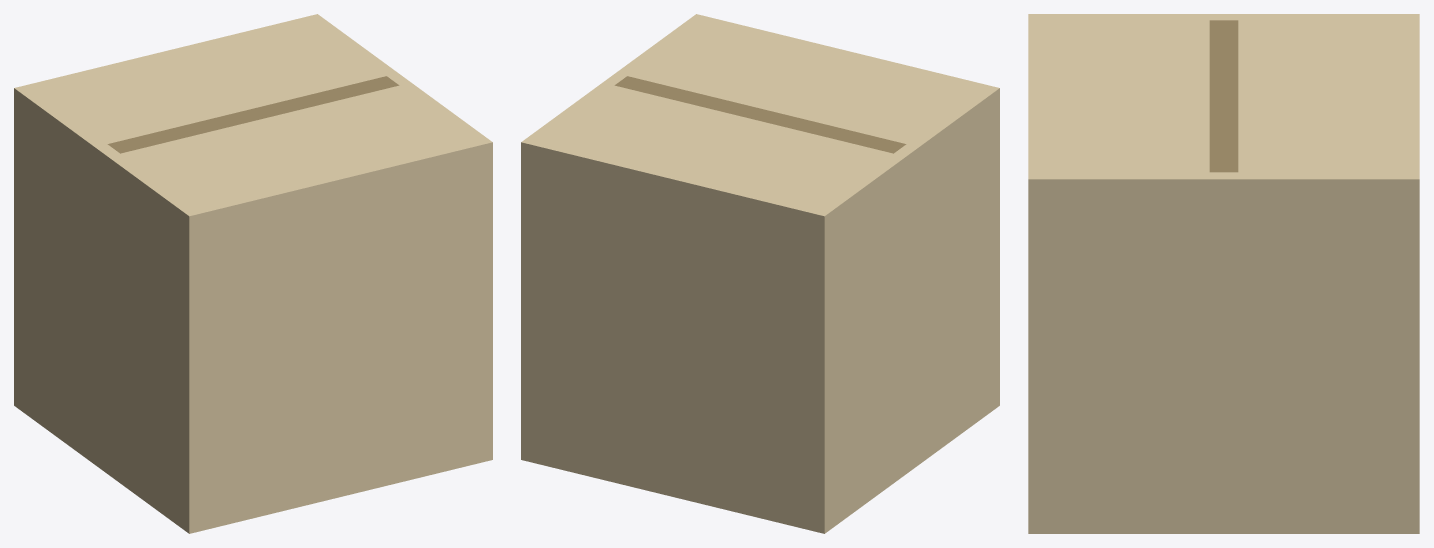
The model's file is block-paper-box.glb.
3 views of the same model, side by side, from view 1: azimuth 30°, elevation 25°; view 2: azimuth 150°, elevation 25°; view 3: azimuth 270°, elevation 25° (orthographic). The views are drawn at different scales.
Visible parts, largest first — view 1: TapeTop; view 2: TapeTop; view 3: TapeTop.
Part boxes in pixels (x1,y1,x2,y2): TapeTop: (14, 14, 492, 533); TapeTop: (521, 14, 999, 533); TapeTop: (1028, 14, 1419, 533).
Bounding box in the file's own units: 1 × 1 × 1.
